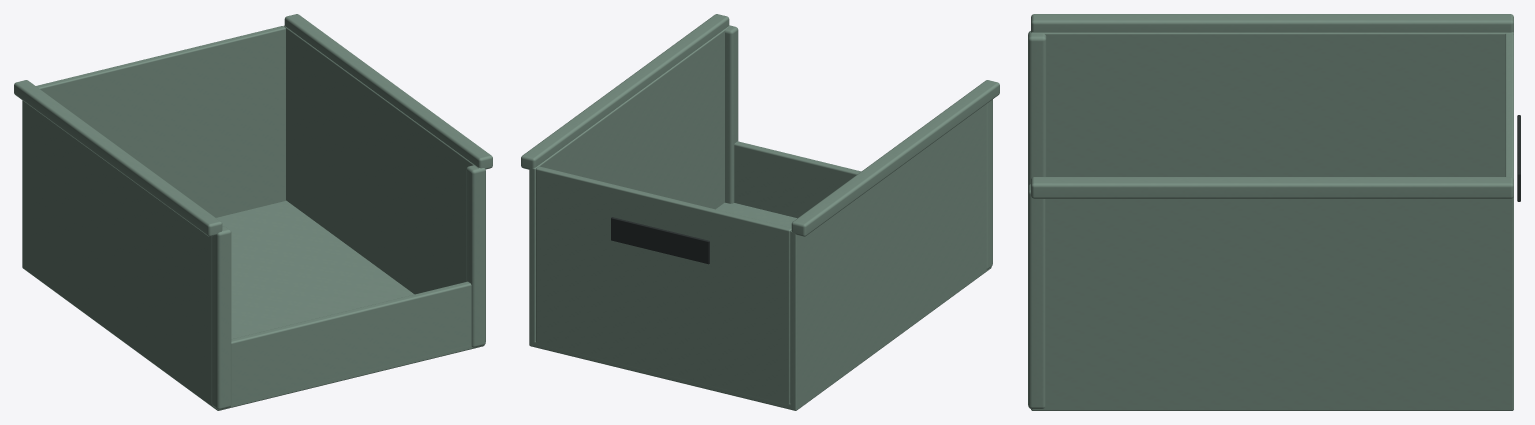
Rendered from stackable-storage-bin.glb.
The picture shows the model from 3 angles, left to right: view 1: azimuth 30°, elevation 25°; view 2: azimuth 150°, elevation 25°; view 3: azimuth 270°, elevation 25°; orthographic projection. The views are drawn at different scales.
Visible parts, largest first — view 1: Open polymer stacking bin end, Open polymer stacking bin end.001, Open polymer stacking bin side, Open polymer stacking bin floor, Low front access lip, Outside stacking ledge, Outside stacking ledge.001, Front raised corner post, Front raised corner post.001; view 2: Open polymer stacking bin side, Open polymer stacking bin end, Open polymer stacking bin end.001, Low front access lip, Outside stacking ledge, Outside stacking ledge.001, Open polymer stacking bin floor, Rear molded handhold reveal, Front raised corner post.001, Front raised corner post; view 3: Open polymer stacking bin end.001, Open polymer stacking bin end, Outside stacking ledge.001, Outside stacking ledge, Front raised corner post.001, Front raised corner post, Open polymer stacking bin side.
Boxes of the visible parts, box(x1,y1,x2,y2) form: Open polymer stacking bin end: box(22, 100, 222, 410); Open polymer stacking bin end.001: box(283, 25, 482, 346); Open polymer stacking bin side: box(36, 26, 285, 217); Open polymer stacking bin floor: box(216, 200, 484, 410); Low front access lip: box(230, 281, 471, 406); Outside stacking ledge: box(14, 80, 222, 236); Outside stacking ledge.001: box(284, 14, 492, 169); Front raised corner post: box(211, 226, 231, 409); Front raised corner post.001: box(466, 165, 485, 347); Open polymer stacking bin side: box(536, 166, 791, 407); Open polymer stacking bin end: box(790, 104, 991, 410); Open polymer stacking bin end.001: box(529, 25, 729, 346); Low front access lip: box(734, 141, 861, 218); Outside stacking ledge: box(791, 80, 999, 236); Outside stacking ledge.001: box(521, 14, 729, 169); Open polymer stacking bin floor: box(530, 202, 990, 410); Rear molded handhold reveal: box(611, 217, 709, 264); Front raised corner post.001: box(725, 25, 738, 203); Front raised corner post: box(986, 99, 992, 269); Open polymer stacking bin end.001: box(1031, 196, 1513, 410); Open polymer stacking bin end: box(1031, 32, 1513, 176); Outside stacking ledge.001: box(1031, 177, 1513, 198); Outside stacking ledge: box(1031, 14, 1513, 32); Front raised corner post.001: box(1028, 184, 1045, 408); Front raised corner post: box(1028, 31, 1046, 186); Open polymer stacking bin side: box(1505, 33, 1513, 179).
Bounding box in the file's own units: 0.354 × 0.2235 × 0.4295.
Materials: 2 (2 with a texture image).
